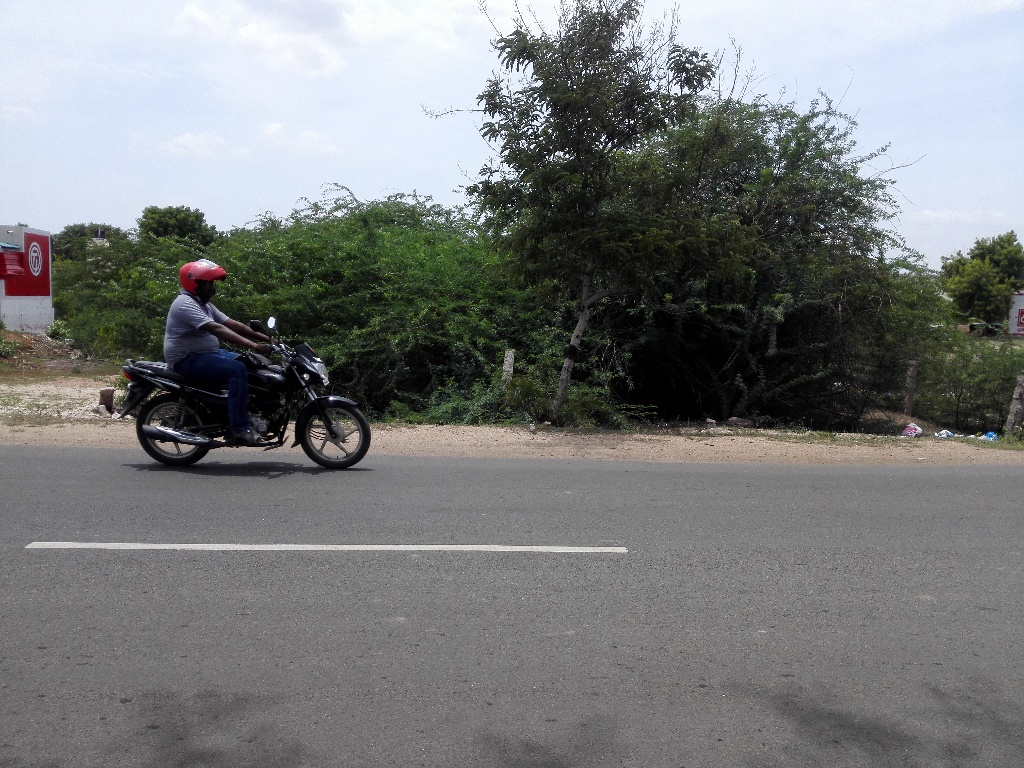biker: (93, 224, 385, 488)
helmet: (170, 247, 240, 314)
